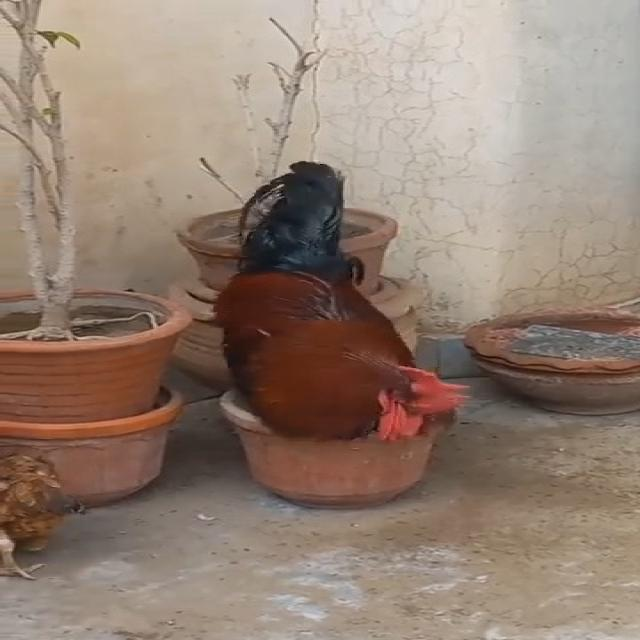stand bath: (188, 152, 470, 442)
